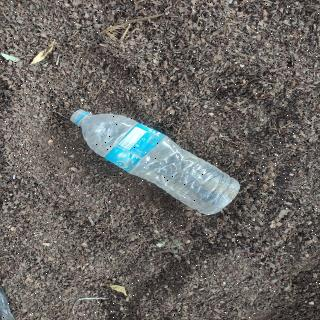Plastic-bottle: (69, 107, 244, 218)
